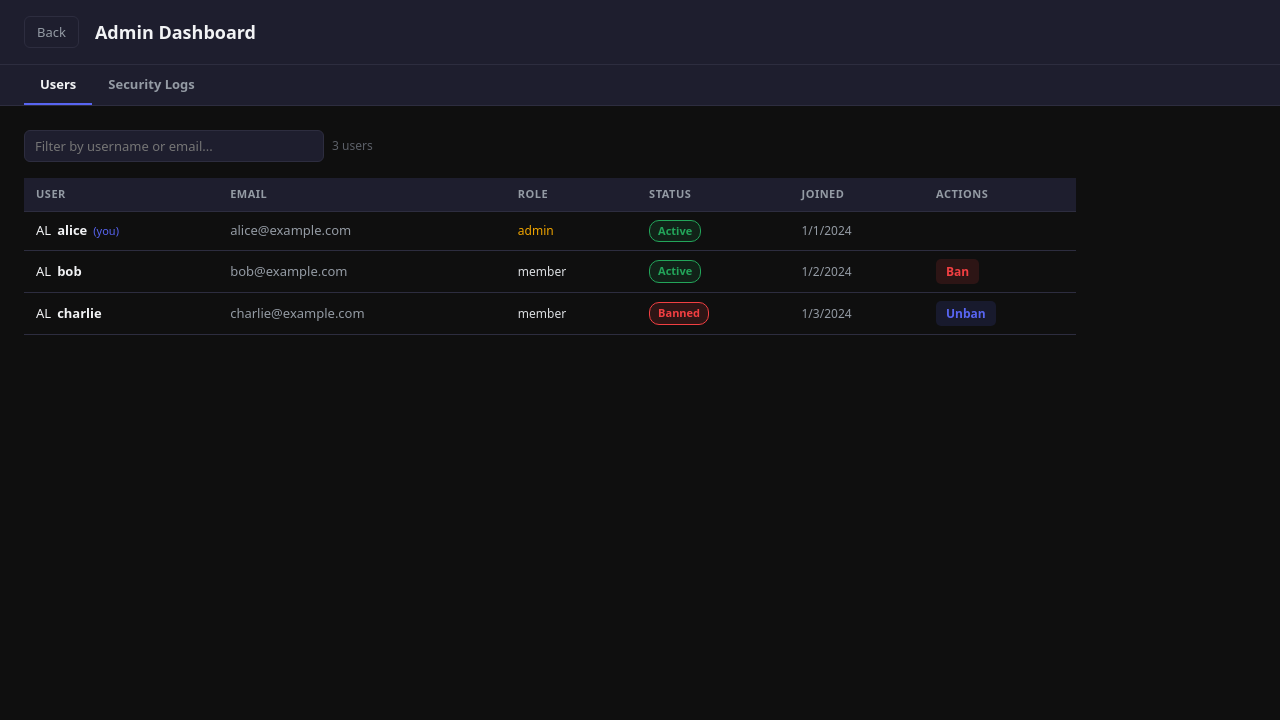
Scenario: ban confirmation modal › opens ban modal when ban button clicked
Click the button with test id "ban-2" at {"x": 958, "y": 272}, box [936, 259, 979, 284]
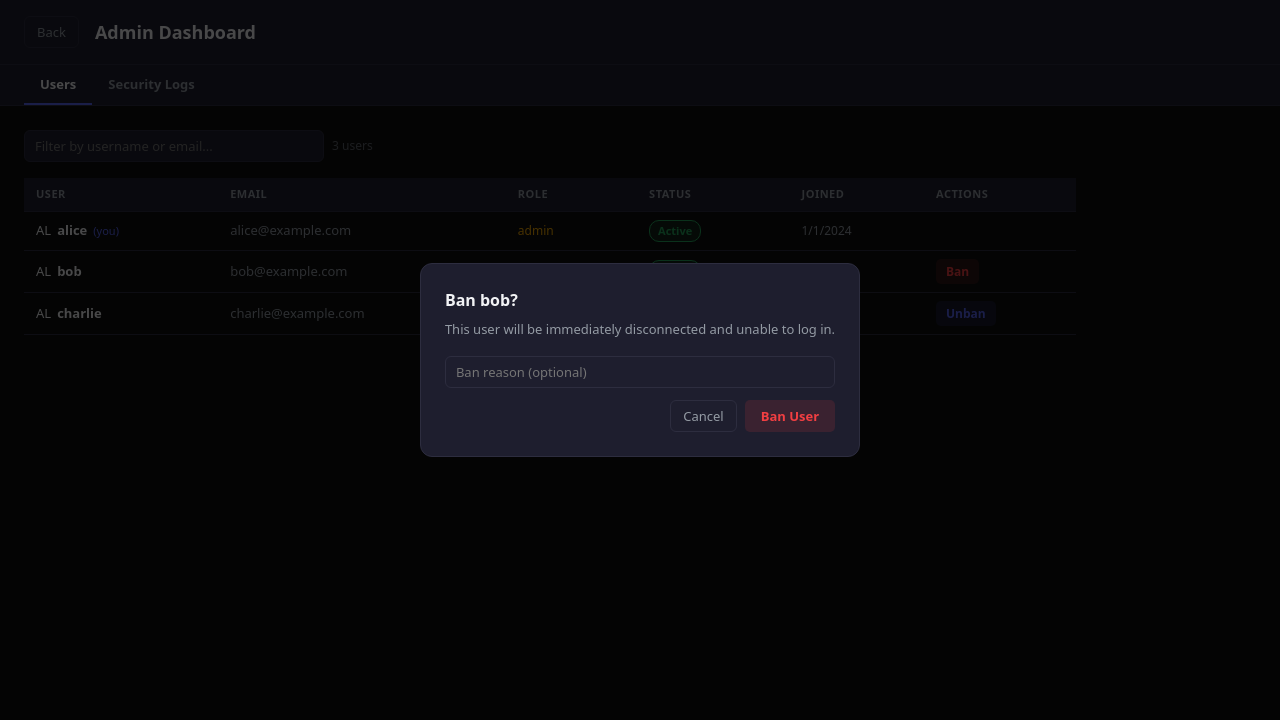
Now the element with test id "ban-modal" is shown, box [420, 263, 860, 457]
